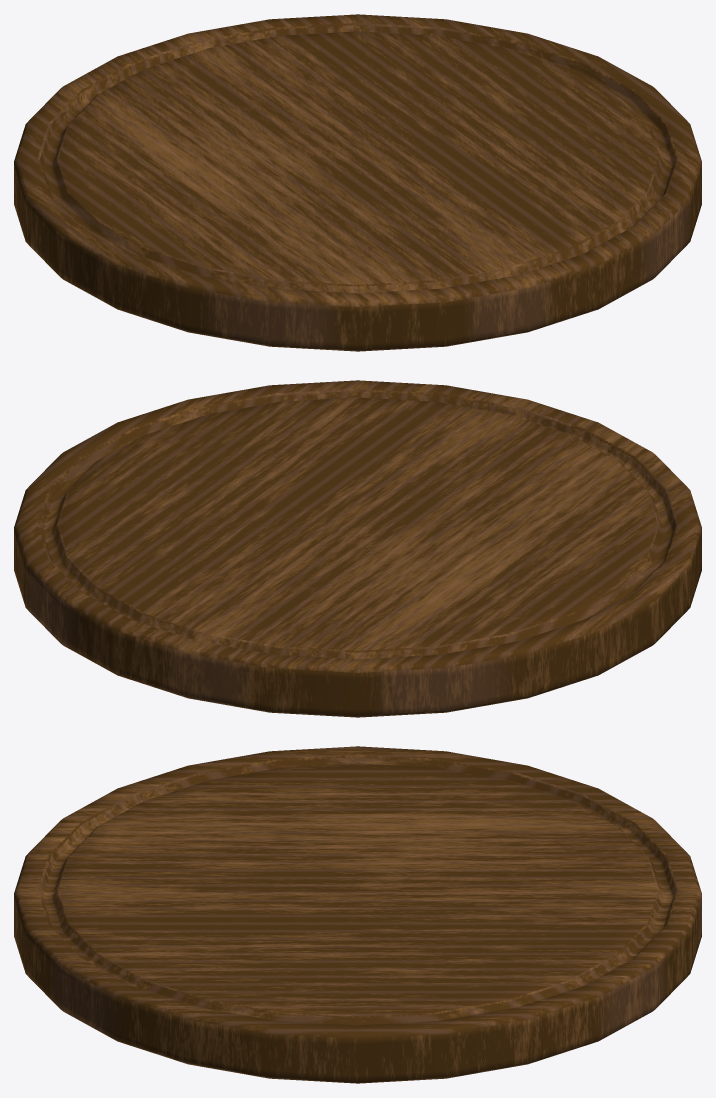
Rendered from Piring Steak.fbx.
3 renders of one model, top to bottom at view 1: azimuth 30°, elevation 25°; view 2: azimuth 150°, elevation 25°; view 3: azimuth 270°, elevation 25°, orthographic.
Visible parts, largest first — view 1: Piring Steak; view 2: Piring Steak; view 3: Piring Steak.
Boxes of the visible parts, x1=… form: Piring Steak: x1=14, y1=14, x2=701, y2=351; Piring Steak: x1=14, y1=380, x2=701, y2=717; Piring Steak: x1=14, y1=746, x2=701, y2=1083.
Size of the model in its own units: 30.23 by 2.41 by 30.23.
Materials: 1 (1 with a texture image).
